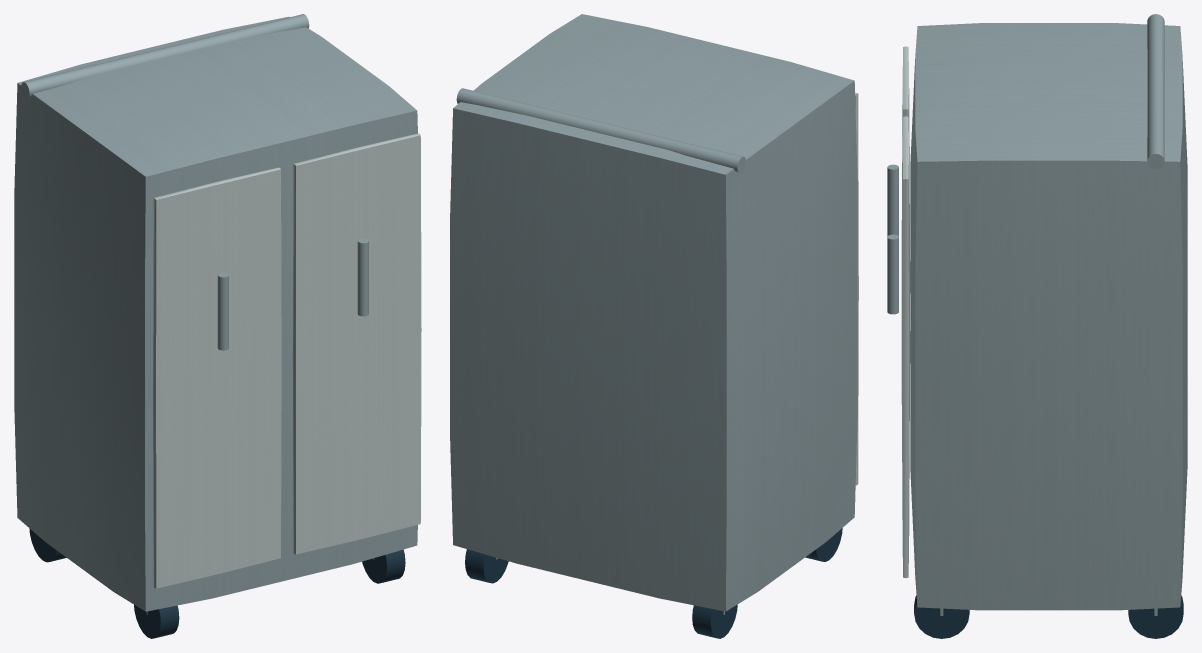
The model's file is meal-trolley.glb.
The picture shows the model from 3 angles, left to right: view 1: azimuth 30°, elevation 25°; view 2: azimuth 150°, elevation 25°; view 3: azimuth 270°, elevation 25°; orthographic projection. The views are drawn at different scales.
Parts seen in each view (by area): view 1: meal-trolley; view 2: meal-trolley; view 3: meal-trolley.
Boxes of the visible parts, x1,y1,x2,y2 form: meal-trolley: [14, 14, 421, 638]; meal-trolley: [450, 14, 858, 638]; meal-trolley: [887, 14, 1187, 638].
Size of the model in its own units: 0.69 by 1.12 by 0.617.
14 materials, 14 textured.
